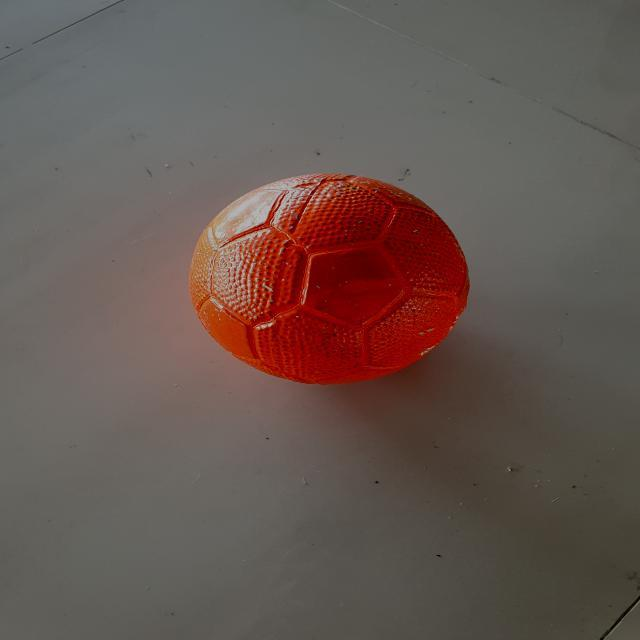bola: (144, 160, 503, 398)
